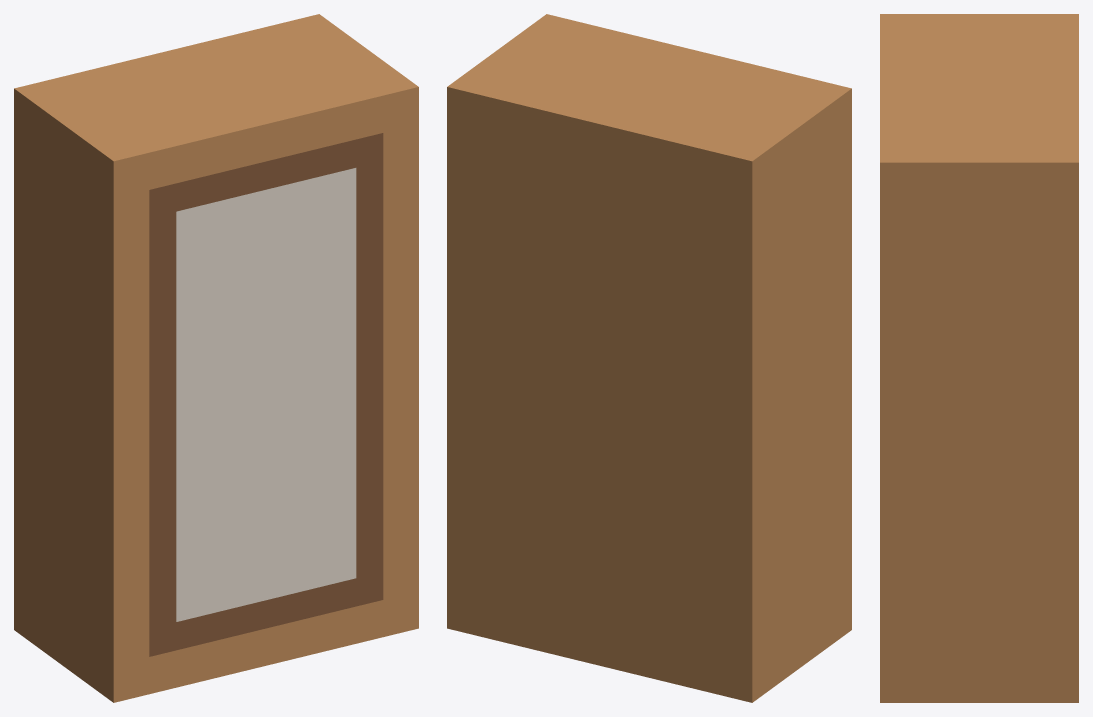
Rendered from kitBathroomCabinet.glb.
3 renders of one model, left to right at view 1: azimuth 30°, elevation 25°; view 2: azimuth 150°, elevation 25°; view 3: azimuth 270°, elevation 25°, orthographic.
Parts seen in each view (by area): view 1: kitBathroomCabinet_wood, kitBathroomCabinet_metal, kitBathroomCabinet_woodDark; view 2: kitBathroomCabinet_wood; view 3: kitBathroomCabinet_wood.
Boxes of the visible parts, box(x1,y1,x2,y2) form: kitBathroomCabinet_wood: box(14, 14, 418, 702); kitBathroomCabinet_metal: box(176, 168, 356, 621); kitBathroomCabinet_woodDark: box(149, 133, 383, 656); kitBathroomCabinet_wood: box(447, 14, 851, 702); kitBathroomCabinet_wood: box(880, 14, 1078, 702).
Bounding box in the file's own units: 0.46 × 0.78 × 0.26.
